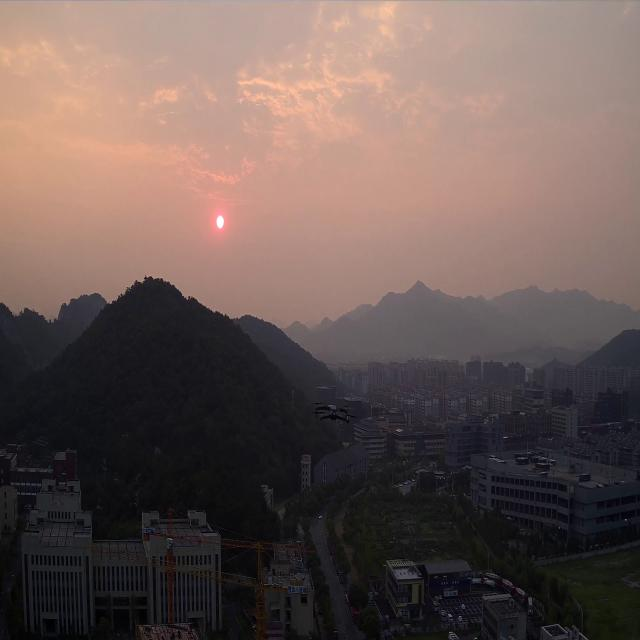UAV: (313, 401, 352, 425)
